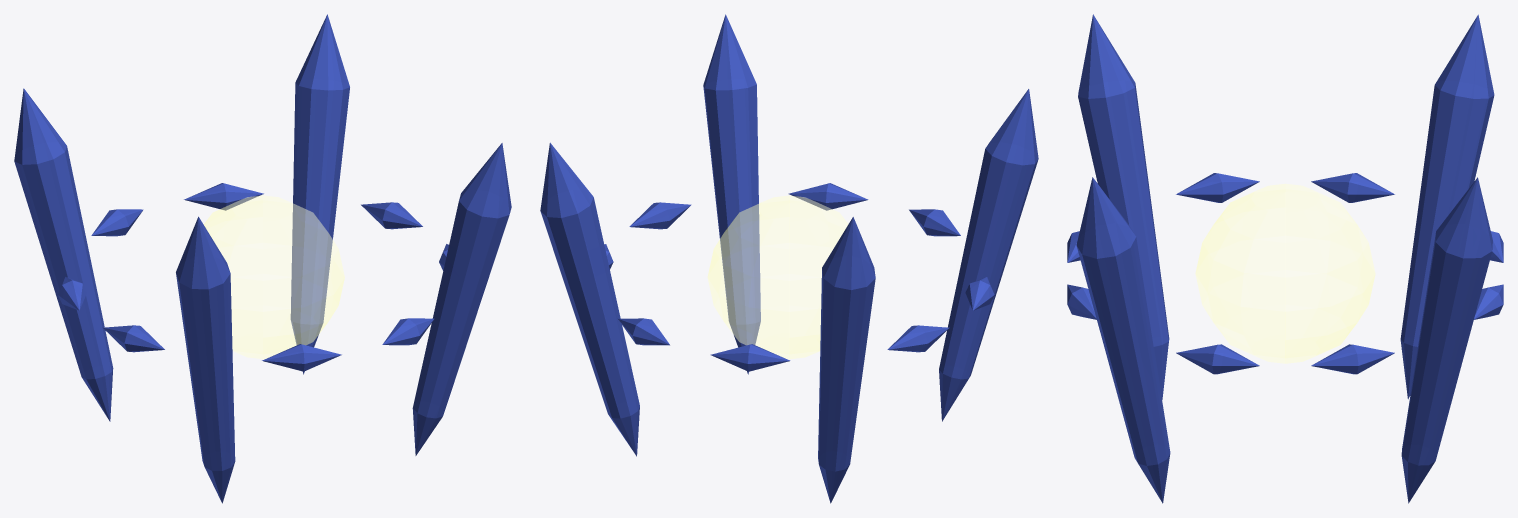
The model's file is BasicEnemy.glb.
3 views of the same model, side by side, from view 1: azimuth 30°, elevation 25°; view 2: azimuth 150°, elevation 25°; view 3: azimuth 270°, elevation 25° (orthographic). The views are drawn at different scales.
Parts seen in each view (by area): view 1: Core, Foot BL, Foot BR, Foot FL, Foot FR, Ring Part FR, Ring Part BL, Ring Part LB, Ring Part RF, Ring Part FL, Ring Part BR, Ring Part RB; view 2: Core, Foot FL, Foot BL, Foot FR, Foot BR, Ring Part BR, Ring Part FL, Ring Part RB, Ring Part LF, Ring Part BL, Ring Part FR, Ring Part RF; view 3: Core, Foot FL, Foot BL, Foot BR, Foot FR, Ring Part LB, Ring Part LF, Ring Part RB, Ring Part RF, Ring Part BL, Ring Part FL.
Boxes of the visible parts, x1,y1,x2,y2 form: Core: [204, 195, 344, 358]; Foot BL: [290, 14, 349, 374]; Foot BR: [14, 88, 113, 421]; Foot FL: [412, 143, 511, 455]; Foot FR: [176, 216, 235, 503]; Ring Part FR: [262, 344, 341, 371]; Ring Part BL: [184, 183, 263, 210]; Ring Part LB: [361, 202, 422, 229]; Ring Part RF: [103, 325, 164, 352]; Ring Part FL: [382, 318, 434, 345]; Ring Part BR: [91, 209, 143, 236]; Ring Part RB: [58, 277, 86, 310]; Core: [708, 195, 847, 359]; Foot FL: [703, 14, 760, 374]; Foot BL: [540, 142, 639, 456]; Foot FR: [939, 89, 1038, 421]; Foot BR: [818, 217, 875, 503]; Ring Part BR: [710, 344, 790, 371]; Ring Part FL: [788, 183, 868, 210]; Ring Part RB: [887, 325, 949, 352]; Ring Part LF: [629, 202, 691, 229]; Ring Part BL: [618, 318, 669, 345]; Ring Part FR: [909, 209, 960, 236]; Ring Part RF: [965, 277, 994, 310]; Core: [1195, 184, 1375, 363]; Foot FL: [1076, 177, 1170, 503]; Foot BL: [1401, 177, 1492, 503]; Foot BR: [1400, 14, 1494, 399]; Foot FR: [1078, 14, 1169, 399]; Ring Part LB: [1311, 344, 1394, 374]; Ring Part LF: [1176, 344, 1259, 374]; Ring Part RB: [1311, 173, 1394, 202]; Ring Part RF: [1176, 173, 1259, 202]; Ring Part BL: [1474, 284, 1503, 319]; Ring Part FL: [1067, 284, 1096, 319].
Size of the model in its own units: 0.9684 by 0.8729 by 0.9684.
